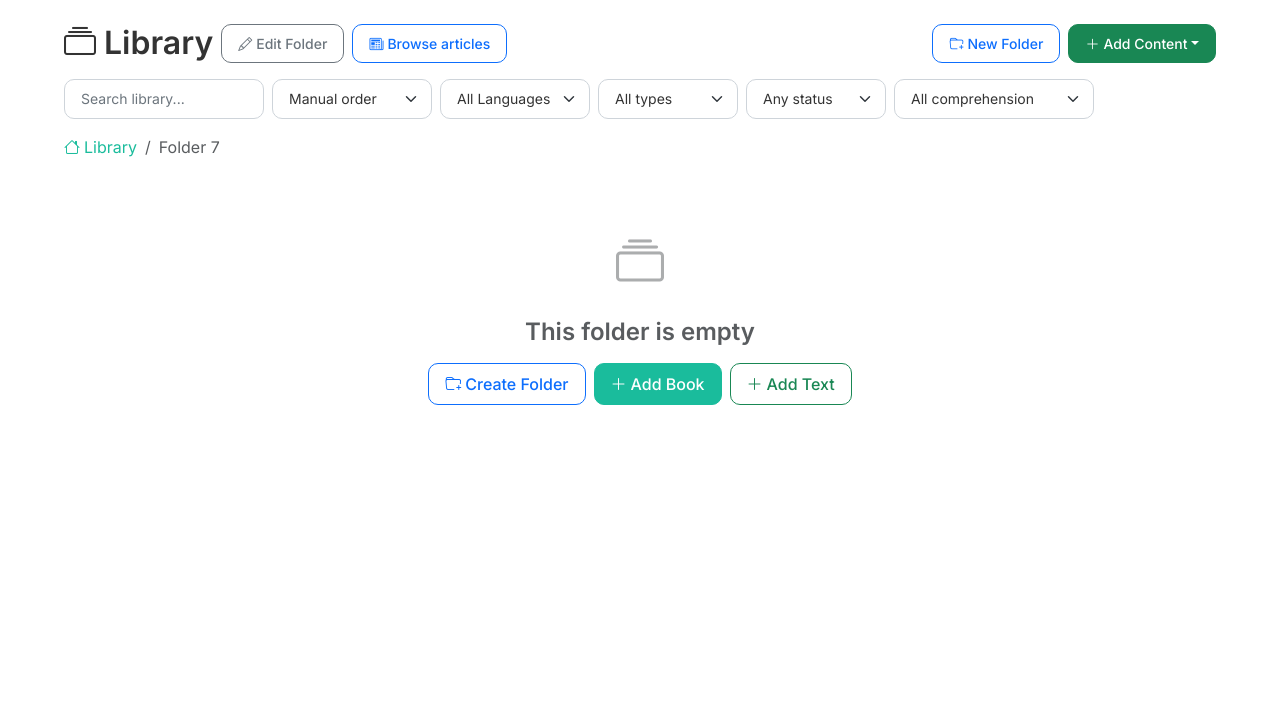
Test: Library › news feed folders › a news feed's folder has Browse articles, which opens its article picker
Click the button "Browse articles".
click(430, 44)  # box left=352, top=24, right=507, bottom=63
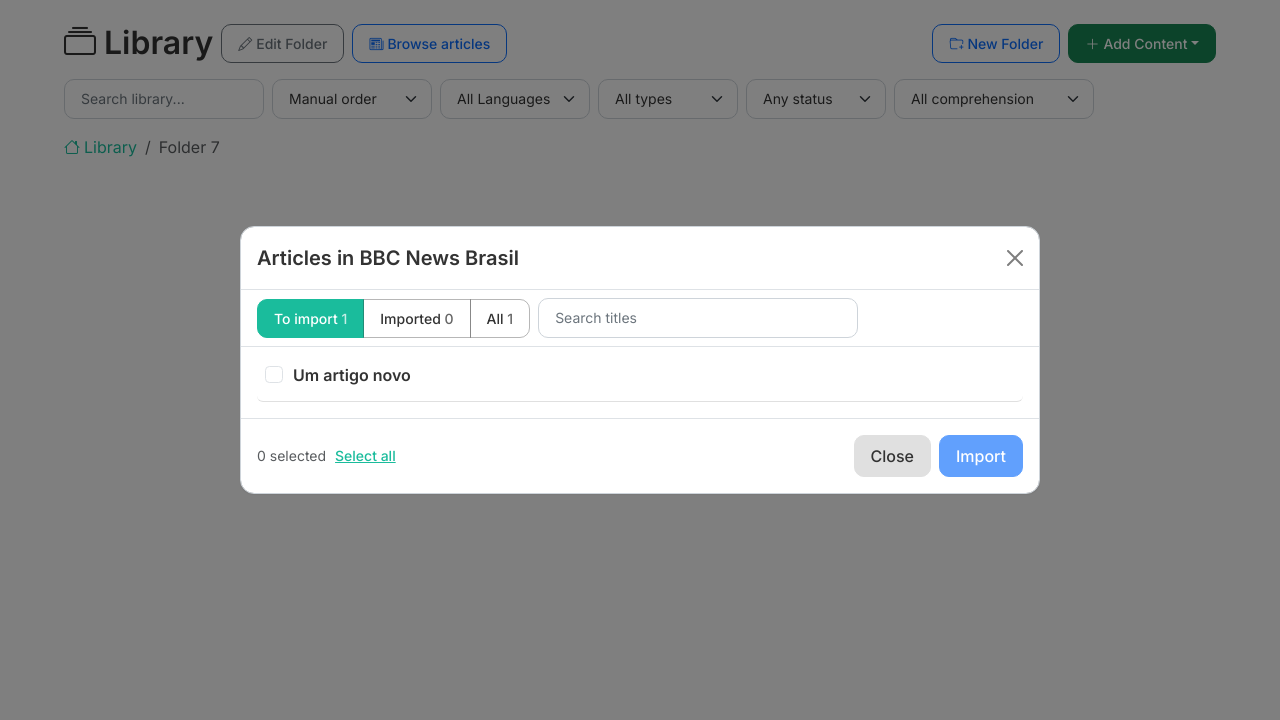
Result: the heading "Articles in BBC News Brasil" is shown at left=257, top=243, right=519, bottom=273
Result: the text "Um artigo novo" is shown at left=293, top=365, right=411, bottom=385
